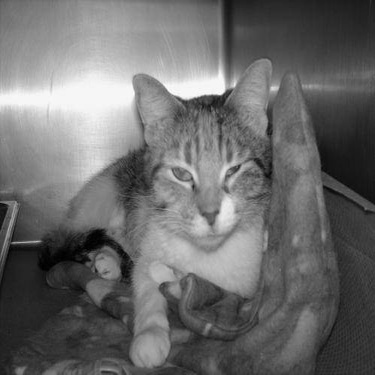cat: (41, 54, 273, 369)
